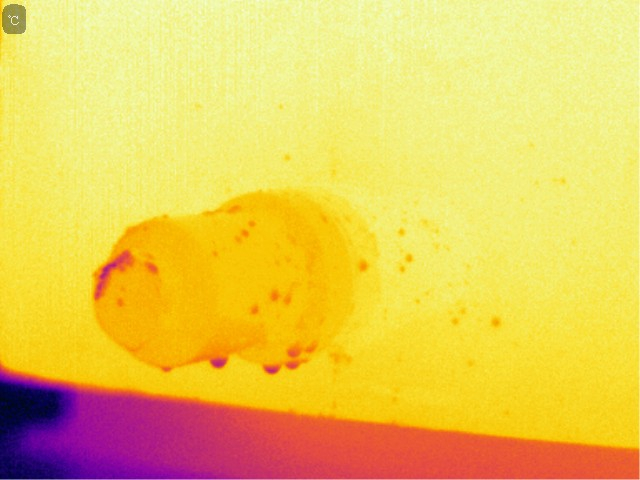Water: (205, 351, 234, 373), (258, 359, 281, 380), (283, 341, 303, 359), (242, 300, 260, 319), (143, 257, 161, 275), (487, 311, 504, 329), (283, 359, 302, 374), (280, 292, 297, 308), (304, 340, 319, 356), (356, 256, 369, 274), (237, 226, 252, 239), (267, 286, 279, 301), (233, 235, 246, 248), (159, 364, 174, 375), (227, 204, 242, 214), (401, 253, 415, 263), (249, 221, 261, 230)
